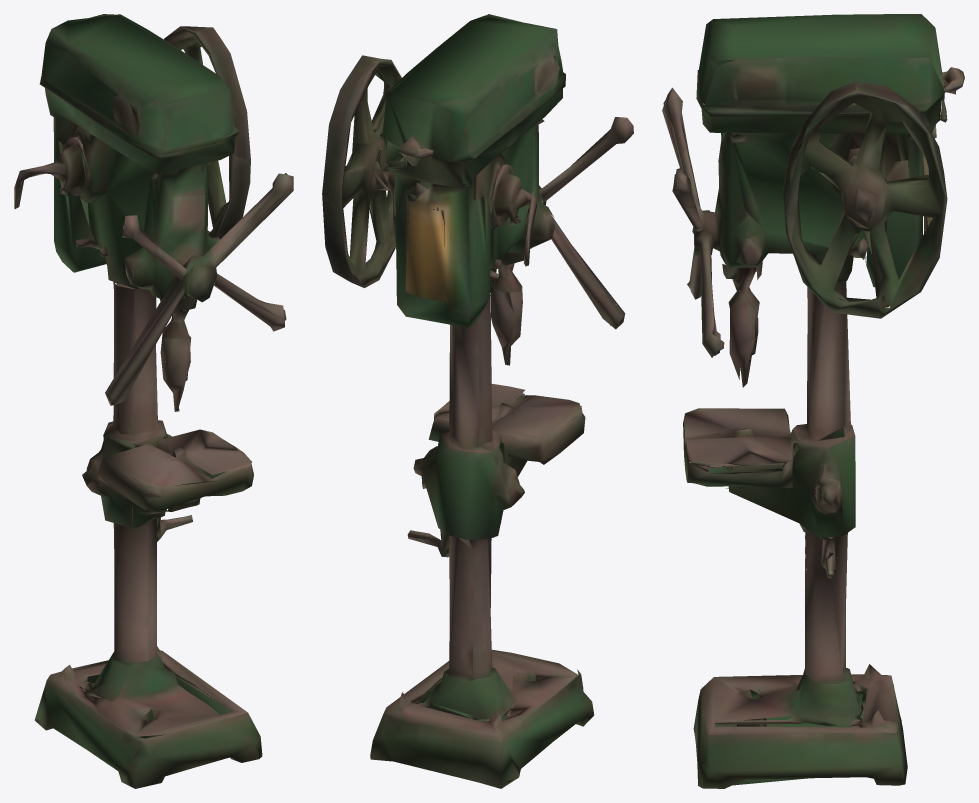
Rendered from taladro.movil.glb.
3 views of the same model, side by side, from view 1: azimuth 30°, elevation 25°; view 2: azimuth 150°, elevation 25°; view 3: azimuth 270°, elevation 25° (orthographic). The views are drawn at different scales.
Parts seen in each view (by area): view 1: geometry_0; view 2: geometry_0; view 3: geometry_0.
Part boxes in pixels (<box>): geometry_0: <box>14,14,293,788</box>; geometry_0: <box>322,14,633,788</box>; geometry_0: <box>662,14,964,788</box>.
Size of the model in its own units: 0.4958 by 1.7 by 0.6467.
Materials: 1 (1 with a texture image).
